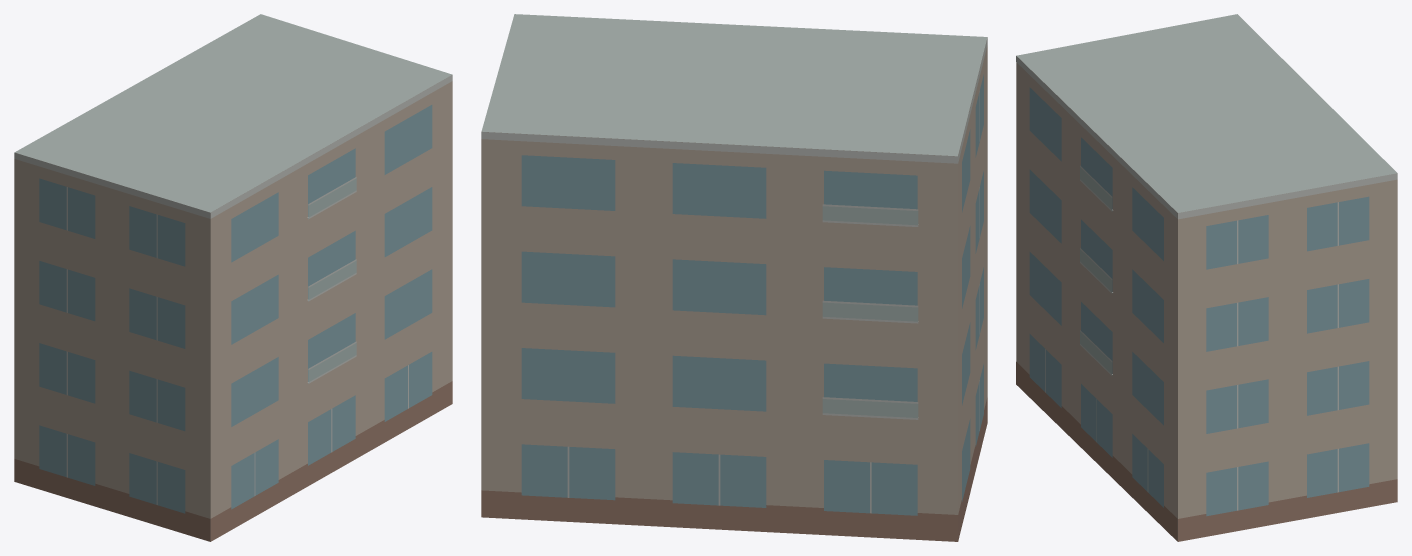
The model's file is survey-upis-33043822.glb.
3 views of the same model, side by side, from view 1: azimuth 30°, elevation 25°; view 2: azimuth 150°, elevation 25°; view 3: azimuth 270°, elevation 25° (orthographic). The views are drawn at different scales.
Parts seen in each view (by area): view 1: survey-upis-33043822.tmp; view 2: survey-upis-33043822.tmp; view 3: survey-upis-33043822.tmp.
Part boxes in pixels (bbox=[...]): survey-upis-33043822.tmp: bbox=[14, 14, 452, 541]; survey-upis-33043822.tmp: bbox=[481, 14, 987, 541]; survey-upis-33043822.tmp: bbox=[1016, 14, 1397, 541].
Size of the model in its own units: 16.5 by 12.7 by 13.36.
